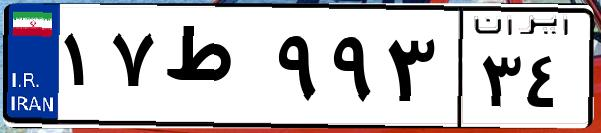1: (57, 26, 110, 100)
3: (385, 28, 445, 110), (475, 38, 525, 113)
4: (525, 38, 570, 115)
7: (110, 28, 158, 98)
9: (270, 28, 330, 110), (330, 28, 385, 110)
ط: (158, 20, 270, 120)
